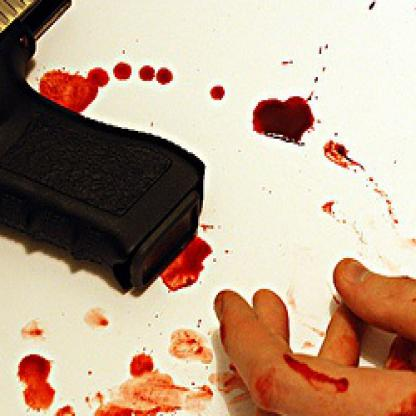gun: (0, 0, 204, 326)
